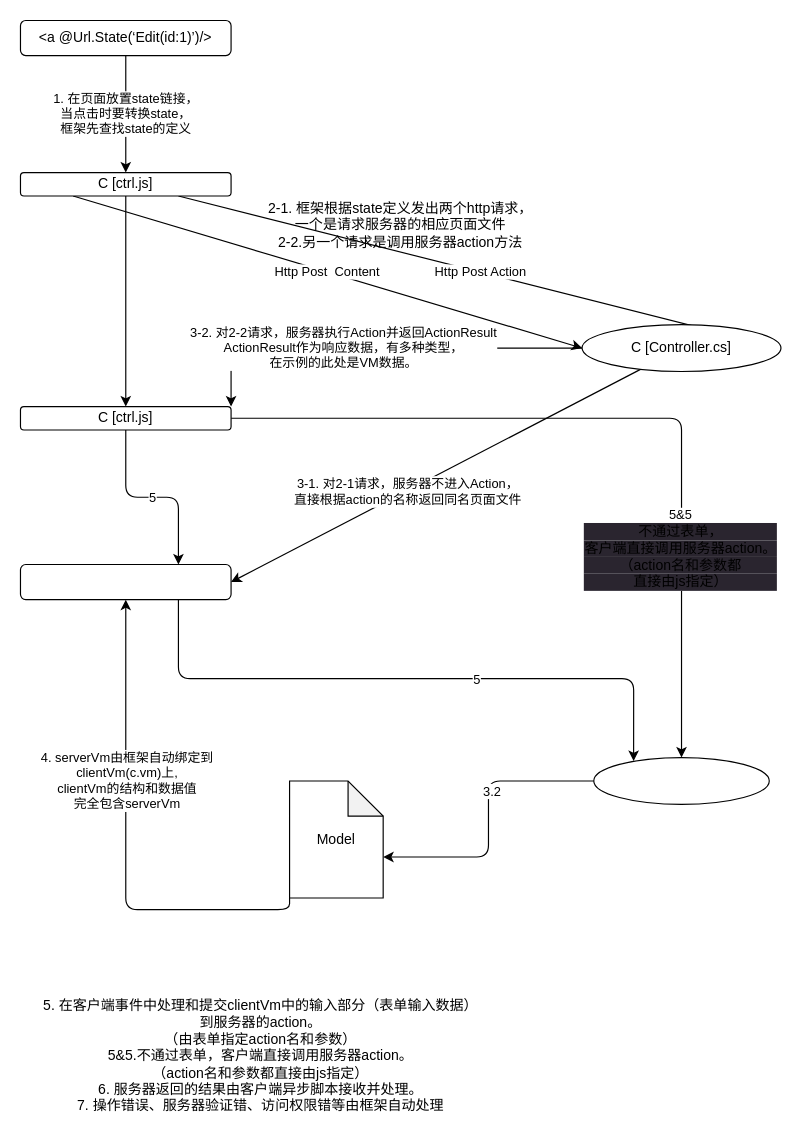
Some shapes in this 811 by 1141 pixel diagram are drawn without their labels. The centre of each missing label's shape, as x and y in pixels:
M [VM,cs]: the point at 681,780
V [cshtml] @model: the point at 125,581
